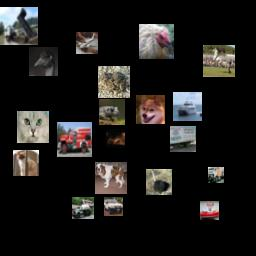airplane: (76, 32, 98, 54)
automobile: (104, 197, 123, 216)
bird: (139, 24, 174, 59), (29, 47, 58, 76), (146, 169, 172, 195)
cat: (17, 111, 49, 143), (13, 150, 39, 176), (106, 129, 125, 148)
dog: (95, 162, 127, 194), (136, 95, 165, 124)
frog: (98, 66, 130, 98), (99, 99, 125, 125)
ship: (173, 92, 202, 121), (200, 201, 219, 220)
truck: (0, 7, 38, 45), (57, 122, 92, 157), (170, 126, 196, 152), (72, 197, 94, 219), (208, 167, 224, 183)
